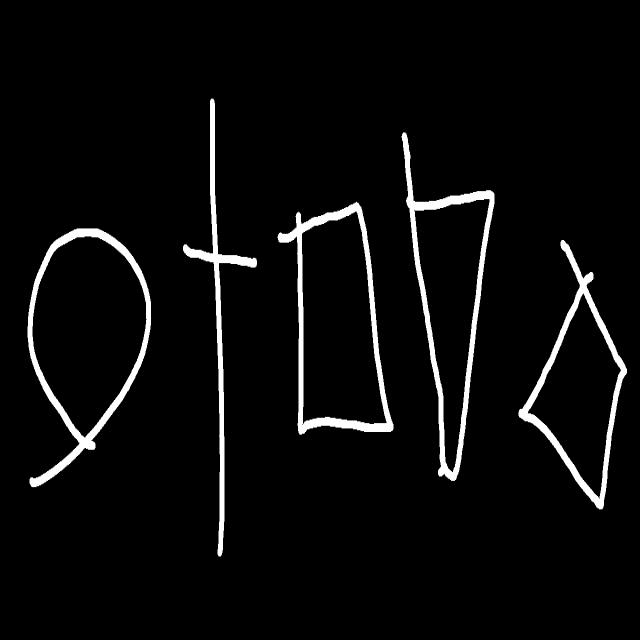Circle: (28, 228, 152, 488)
Cross: (183, 99, 257, 556)
Diamond: (518, 241, 626, 509)
Square: (278, 202, 393, 434)
Triangle: (402, 133, 494, 481)
